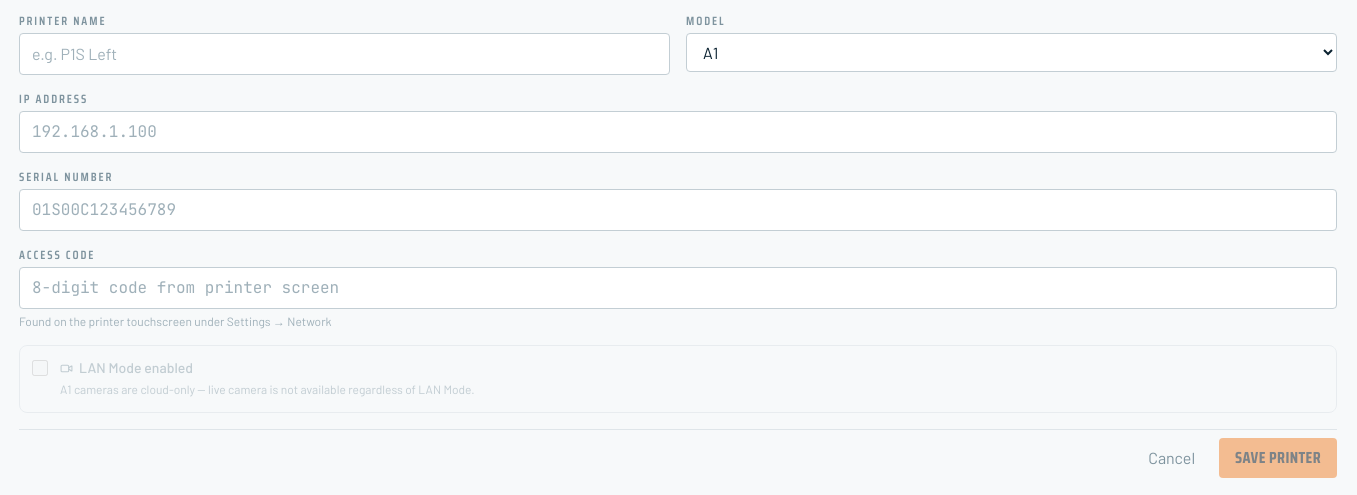
it: PrinterForm › validation › stays disabled while e.g. P1S Left is blank
The image size is (1357, 495).
Type "Left P1S" into the field with placeholder "e.g. P1S Left" at (344, 54), box [19,33,670,75]
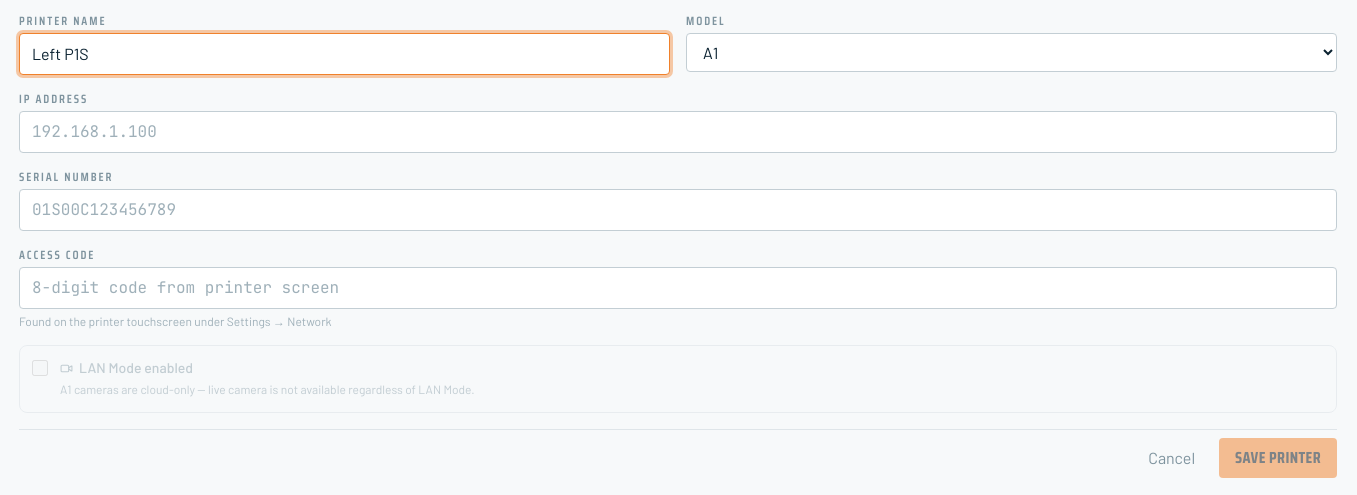
Type "192.168.1.50" into the field with placeholder "192.168.1.100" at (678, 132), box [19,111,1337,153]
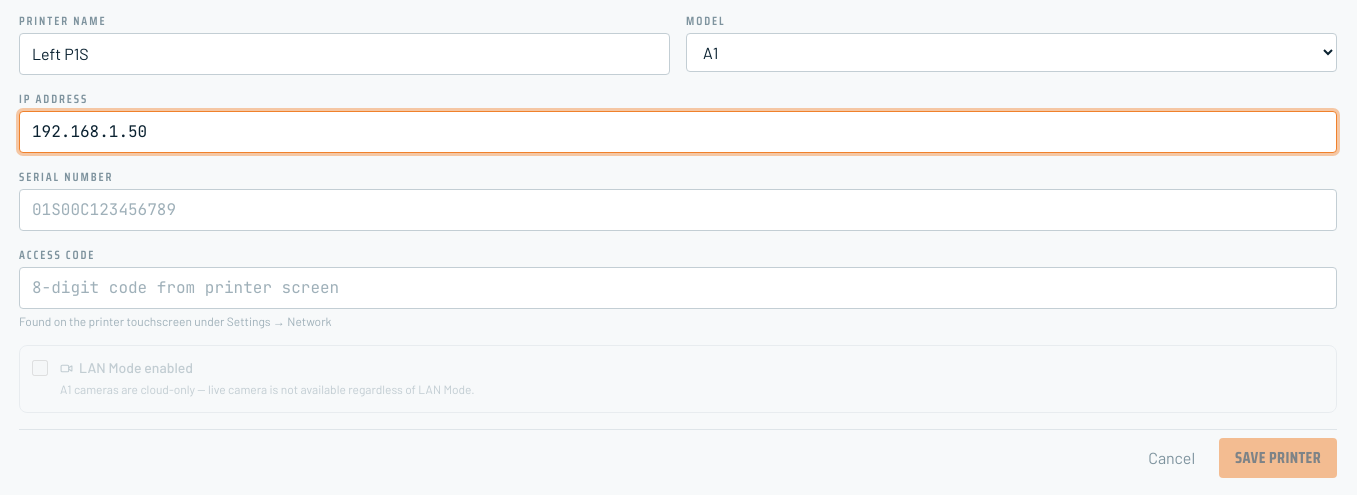
Type "abc123" into the field with placeholder "01S00C123456789" at (678, 210), box [19,189,1337,231]
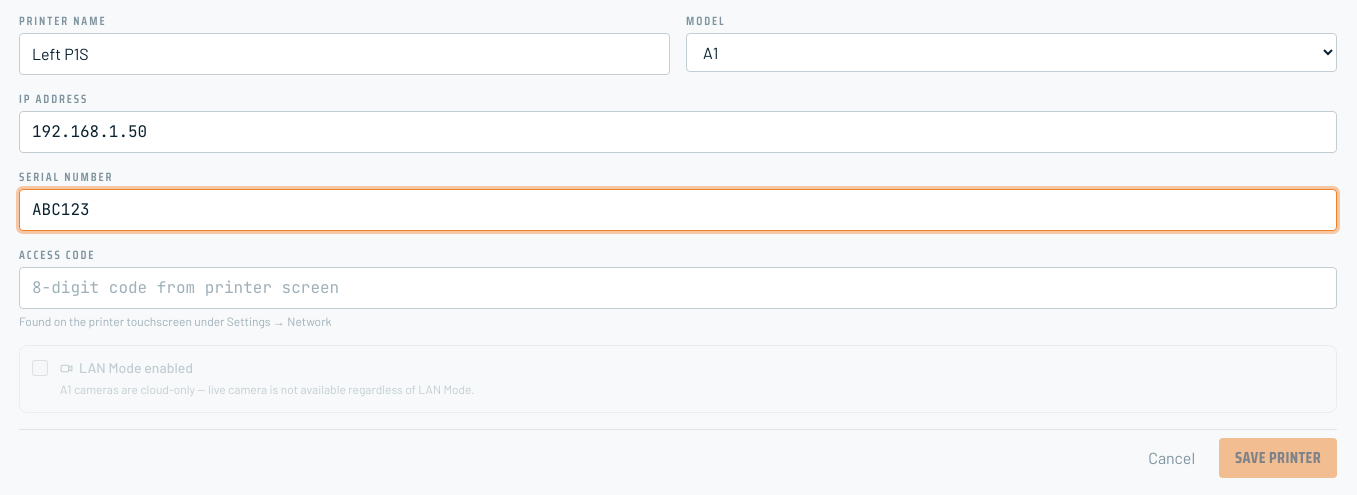
Type "12345678" into the field with placeholder "8-digit code from printer screen" at (678, 288), box [19,267,1337,309]
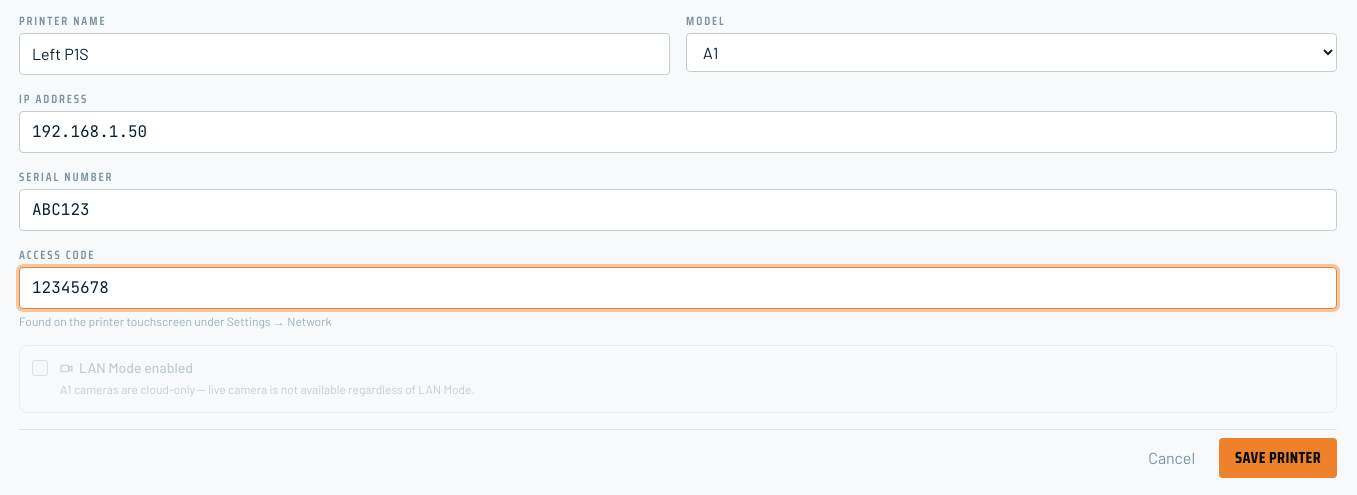
Clear the field with placeholder "e.g. P1S Left" below "Printer name" at (344, 54), box [19,33,670,75]
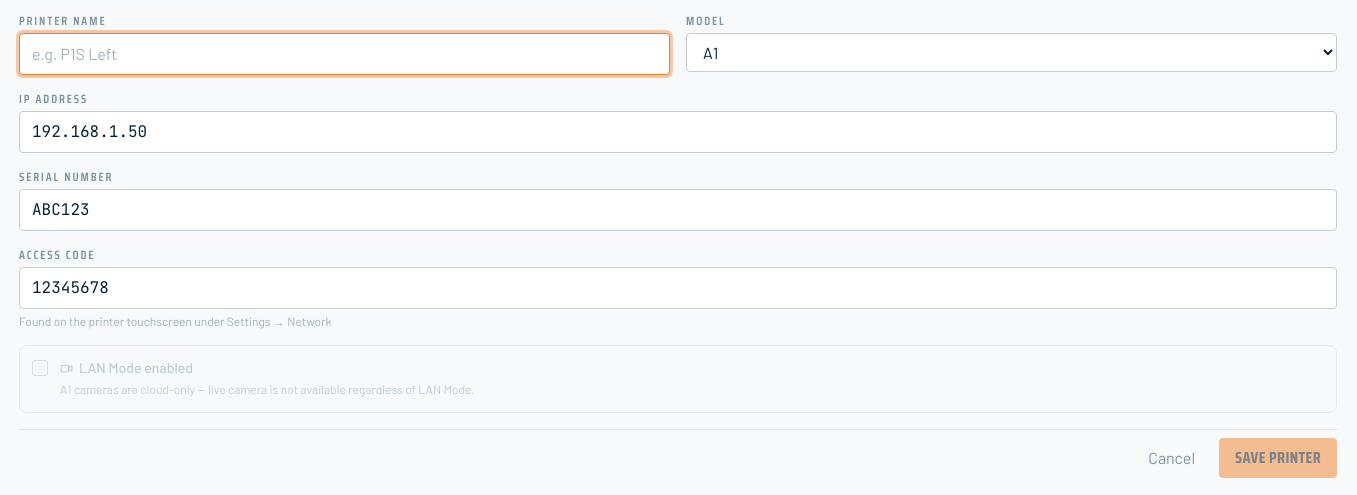
Result: the button "Save printer" is disabled at [1219,438,1337,478]
